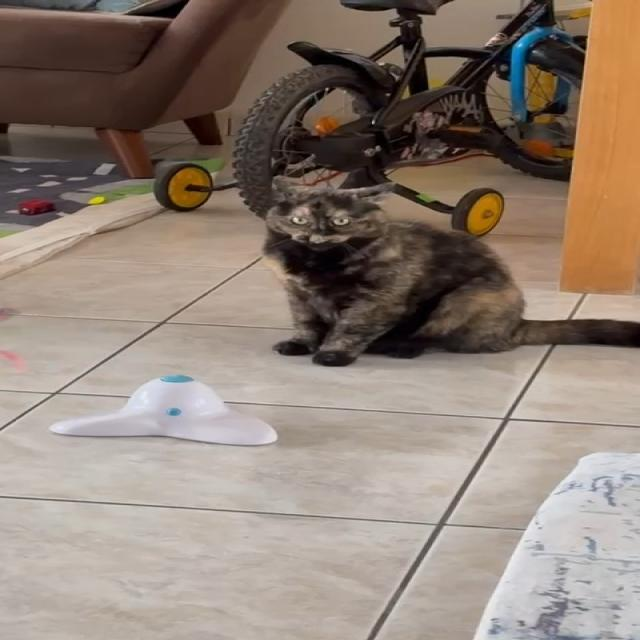authorized: (260, 176, 639, 366)
